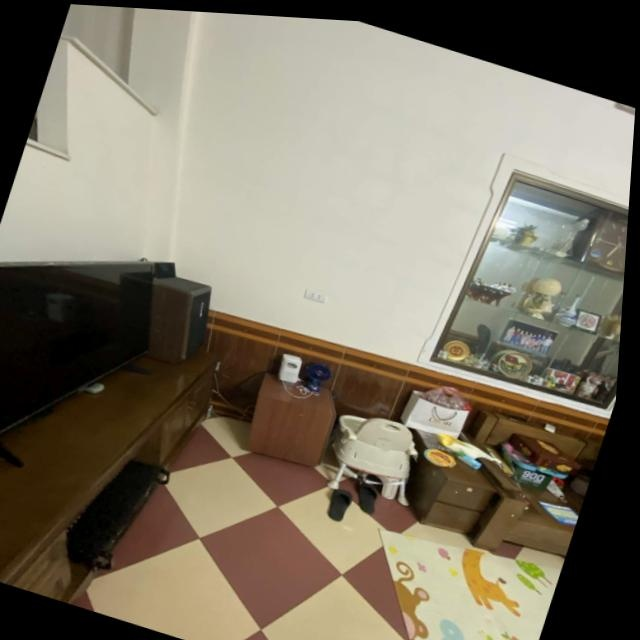outlet: (302, 288, 327, 304)
